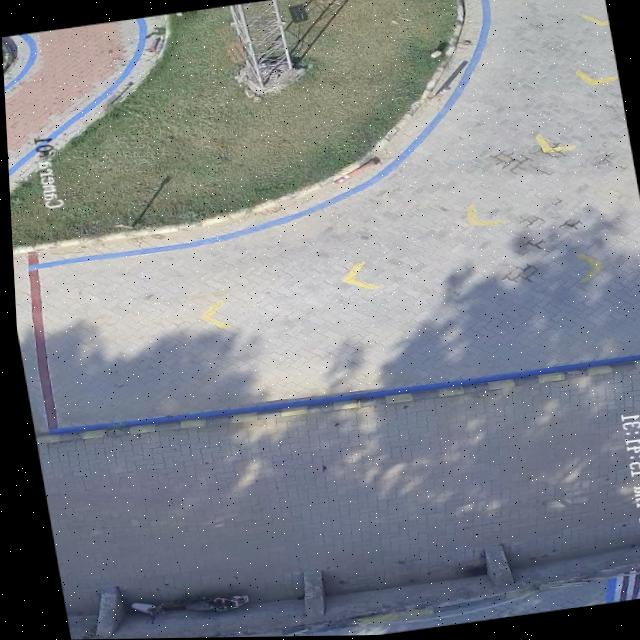No Car: (2, 0, 640, 640)
